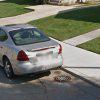Car: (2, 17, 67, 84)
